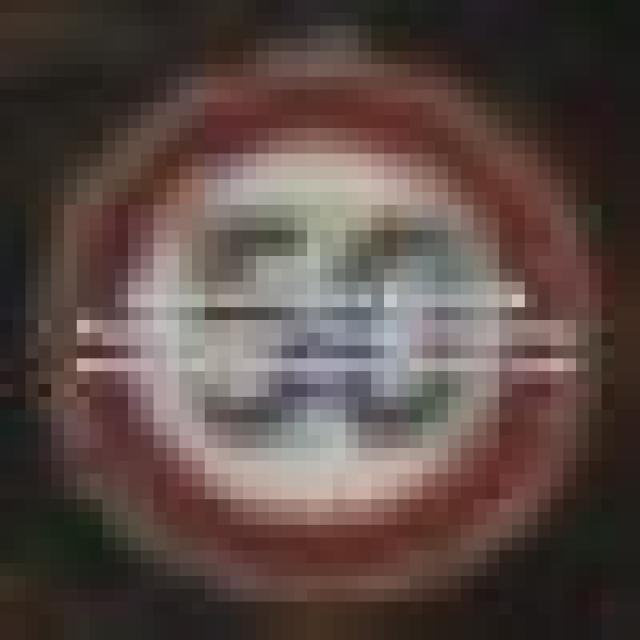speed_limit_30: (26, 51, 602, 589)
